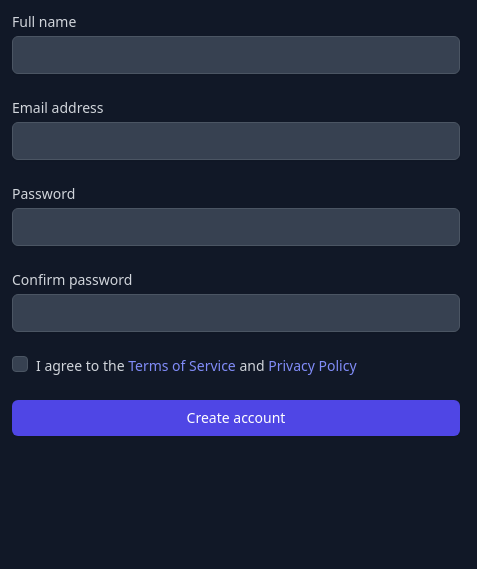
Test: RegisterForm › Form Validation › validates name field
The width and height of the screenshot is (477, 569).
Submit the form
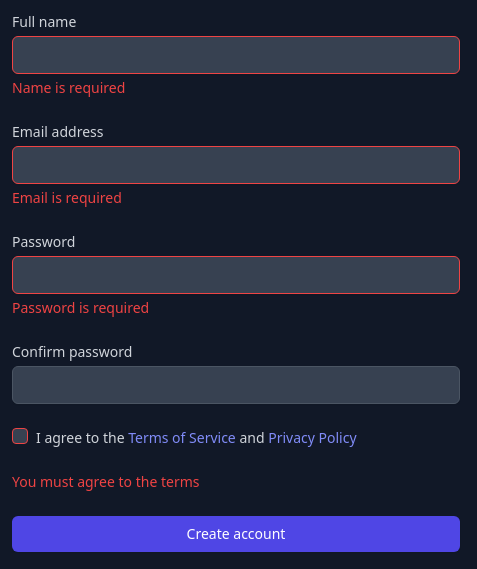
Expected: the text "Name is required" is shown, [12, 78, 125, 97]
Test minimum length
In the field with id "name": (236, 55) [12, 36, 460, 74], type "A"
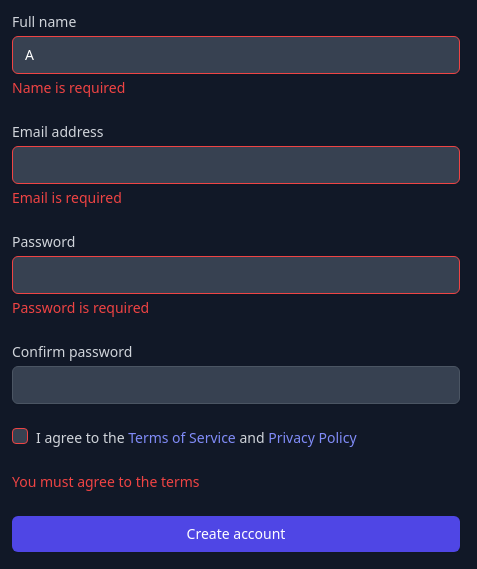
Submit the form
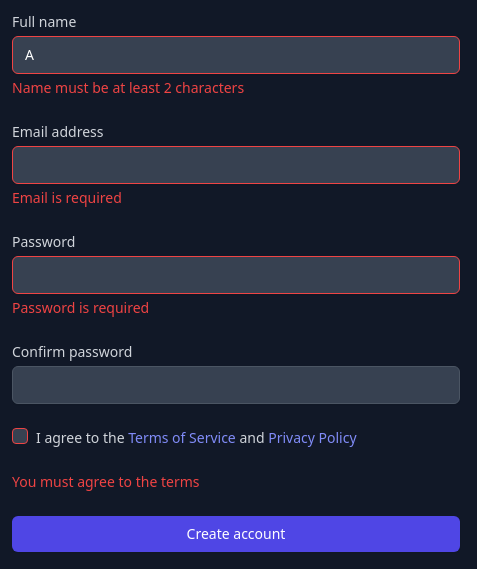
Expected: the text "Name must be at least 2 characters" is shown, [12, 78, 244, 97]
